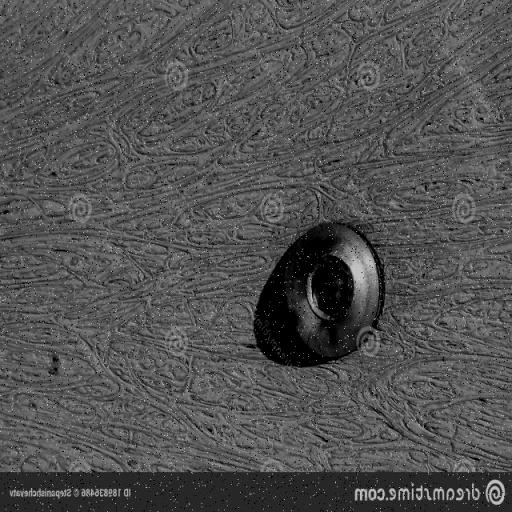Hex-Allen: (276, 212, 393, 359)
